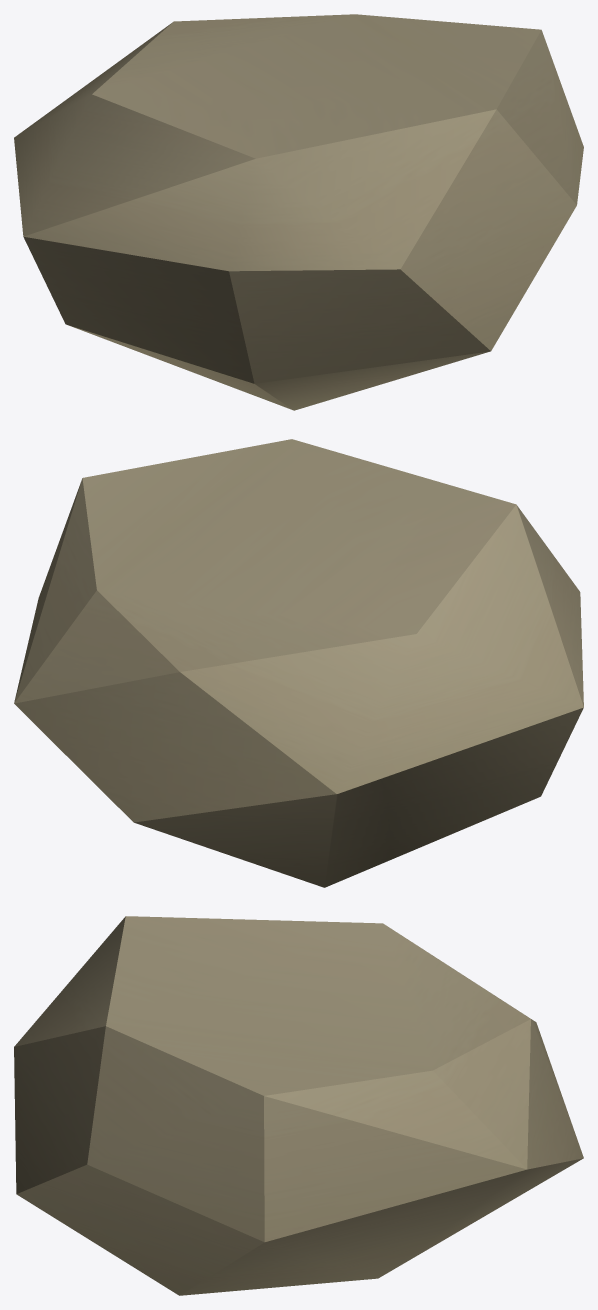
The model's file is Rock_little_03.fbx.
3 views of the same model, one above another, from view 1: azimuth 30°, elevation 25°; view 2: azimuth 150°, elevation 25°; view 3: azimuth 270°, elevation 25° (orthographic). The views are drawn at different scales.
Visible parts, largest first — view 1: Rock_little_03; view 2: Rock_little_03; view 3: Rock_little_03.
Part boxes in pixels (x1,y1,x2,y2): Rock_little_03: (14,14,583,410); Rock_little_03: (14,439,583,887); Rock_little_03: (14,916,583,1295).
Bounding box in the file's own units: 81.44 × 40.41 × 74.66.
